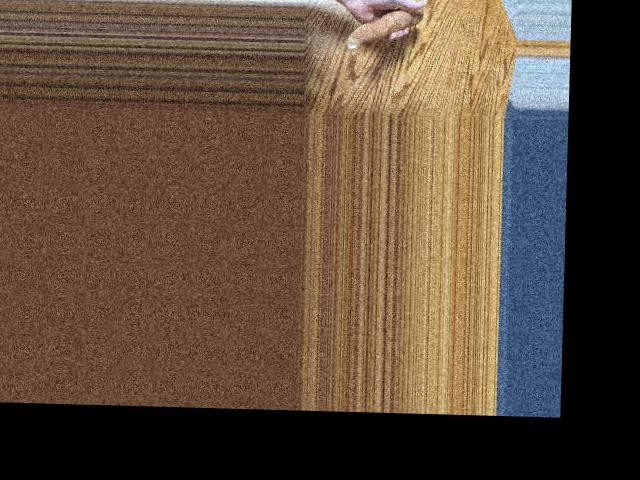sweet_potato: (342, 7, 420, 51)
